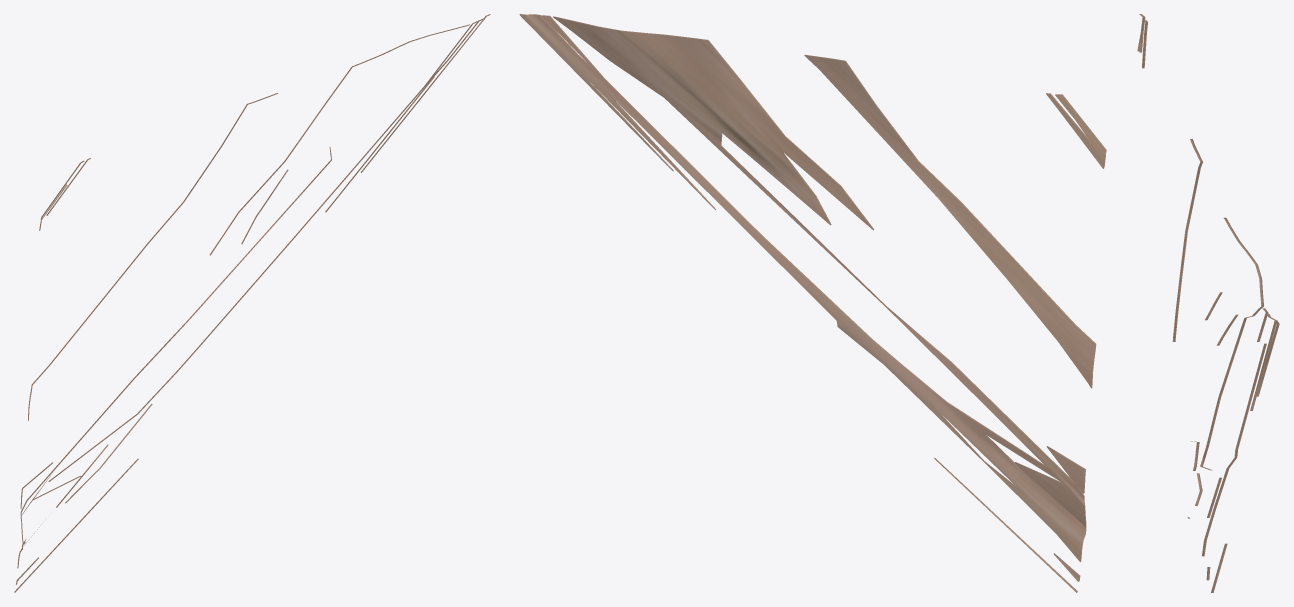
3 renders of one model, left to right at view 1: azimuth 30°, elevation 25°; view 2: azimuth 150°, elevation 25°; view 3: azimuth 270°, elevation 25°, orthographic. The views are drawn at different scales.
Size of the model in its own units: 10.11 by 8.48 by 1.83.
Materials: 1 (1 with a texture image).
